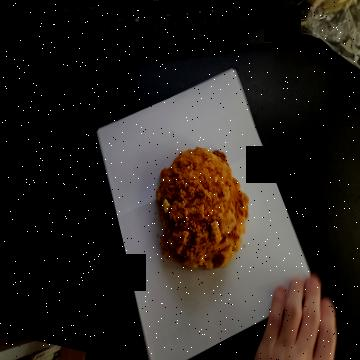soboru_bread: (156, 147, 250, 274)
